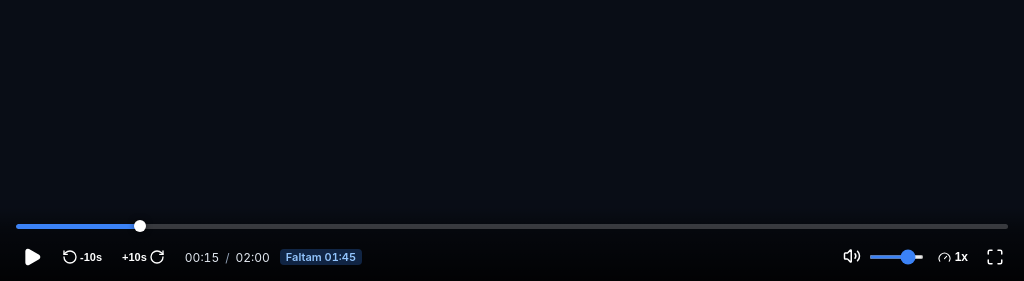
Scenario: VideoControls Component › renders playback speed button, opens speed options menu and selects new speed
Expected: the text with test id "video-speed-label" reads "1x", [955,250,968,264]
Clica no botão de velocidade para abrir o popover
Click the button with test id "video-speed-btn".
click(953, 257)  # box [932,246,974,268]
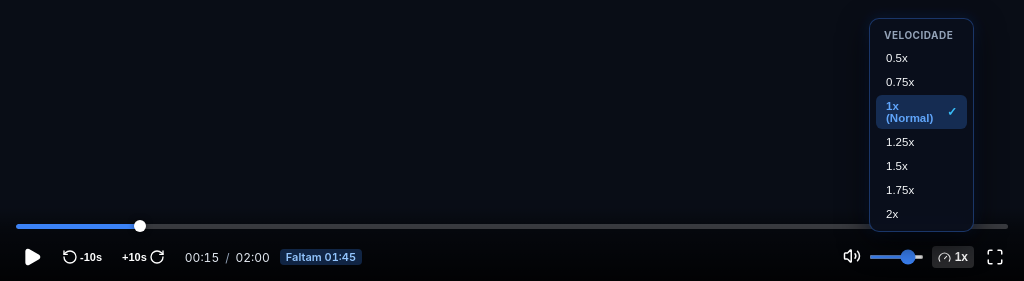
Expected: the element with test id "video-speed-menu" is shown, [869,18,974,232]
Expected: the button with test id "video-speed-option-1.5" is shown
Expected: the button with test id "video-speed-option-2" is shown, [876,203,967,225]
Seleciona 1.5x
Click the button with test id "video-speed-option-1.5".
click(922, 166)  # box [876,155,967,177]
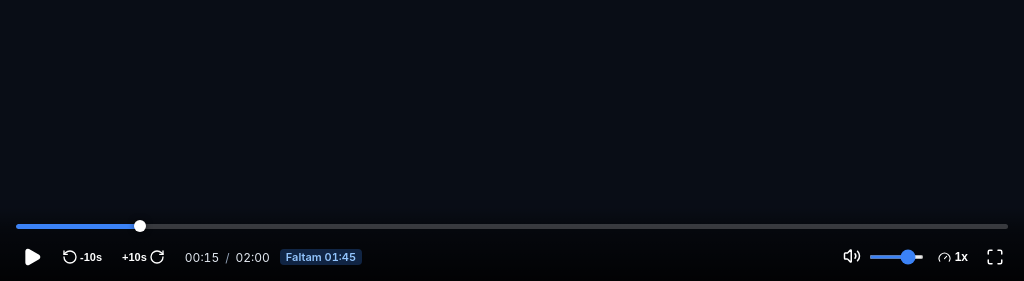
Expected: the element with test id "video-speed-menu" is gone
